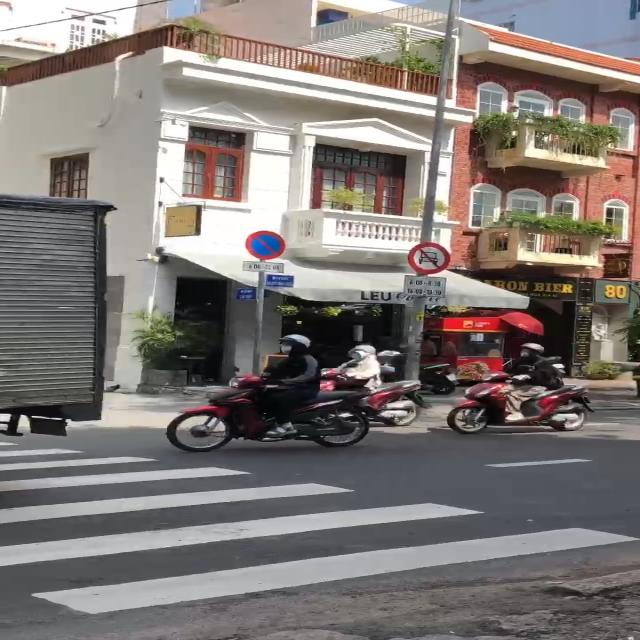Bien bao cam do xe: (241, 227, 289, 261)
Bien bao cam xe oto: (404, 240, 454, 278)
